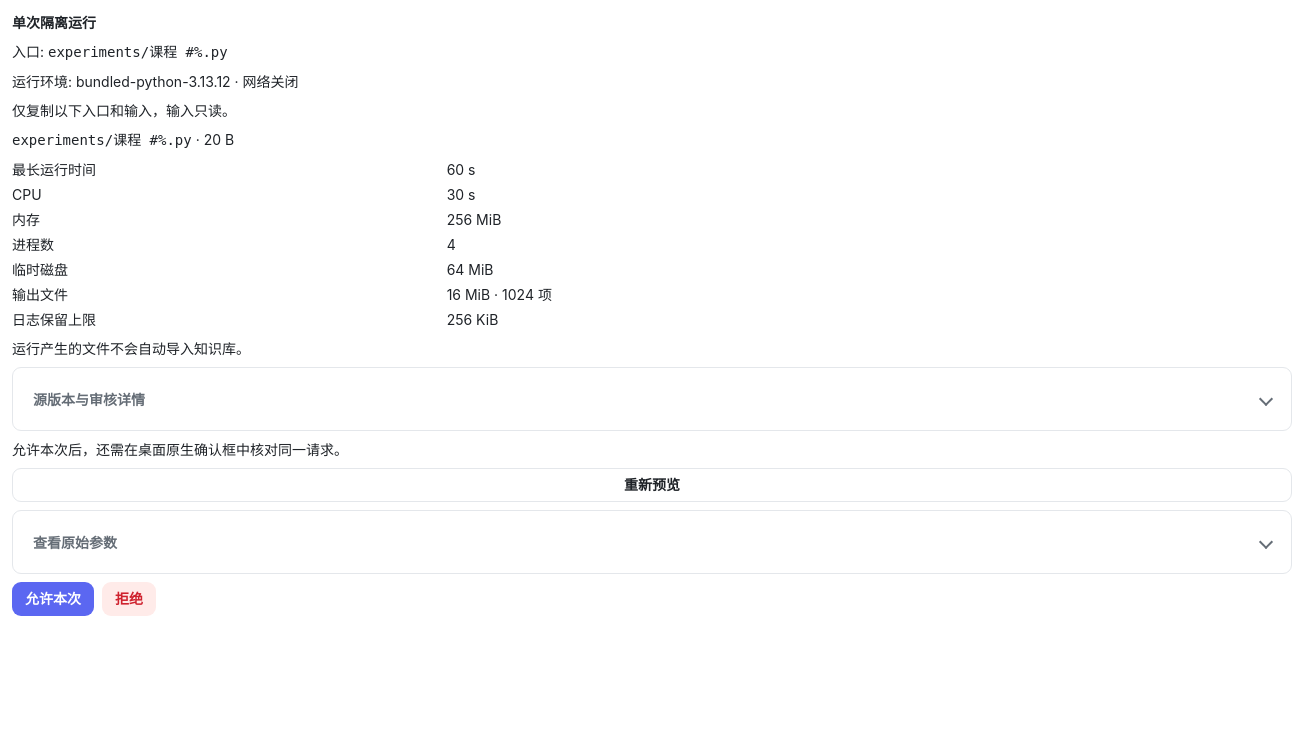
Test case: rejects native consent belonging to another operation
Click the button "允许本次": x=53, y=599 12,582 -> 94,616
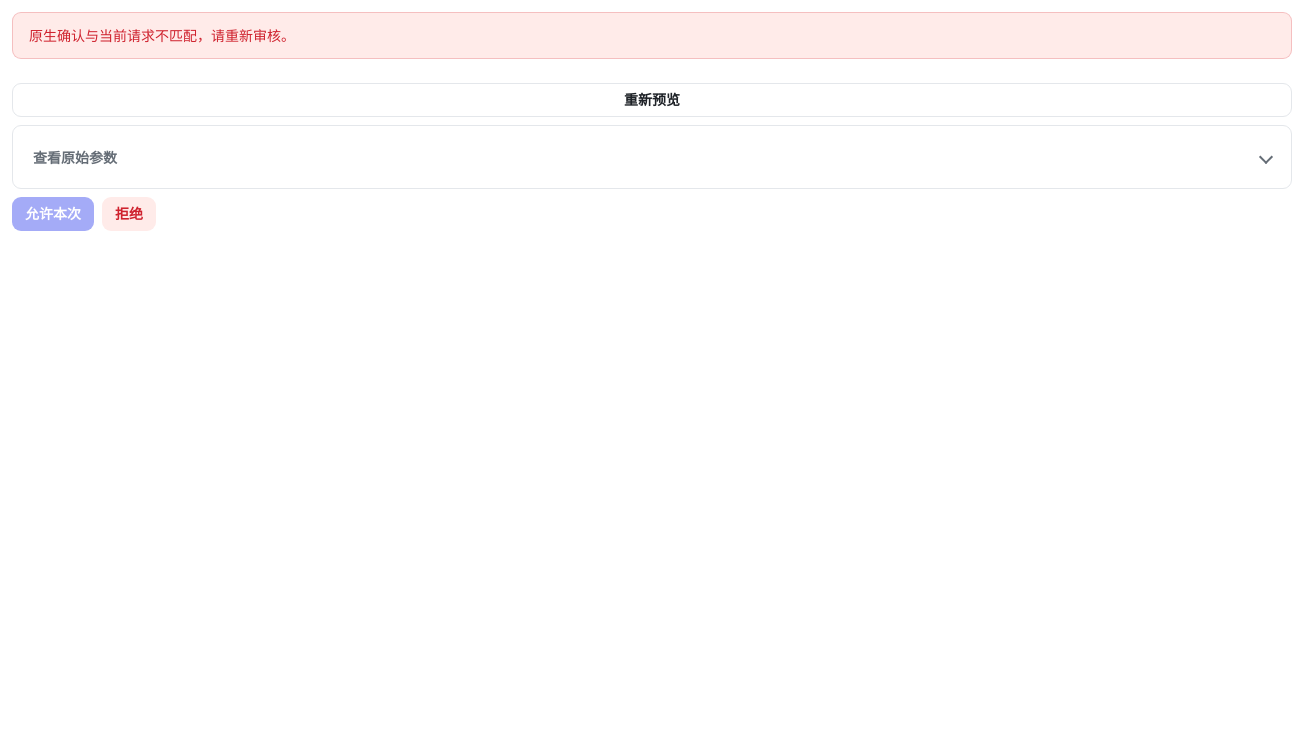
Check: the text "原生确认与当前请求不匹配" is shown, box 29,27 -> 295,44
Check: the button "允许本次" is disabled, box 12,197 -> 94,231
